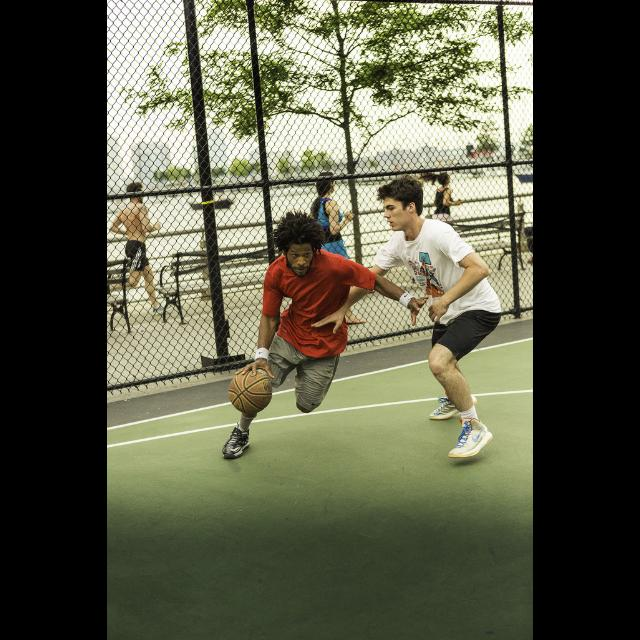Football: (225, 366, 273, 414)
